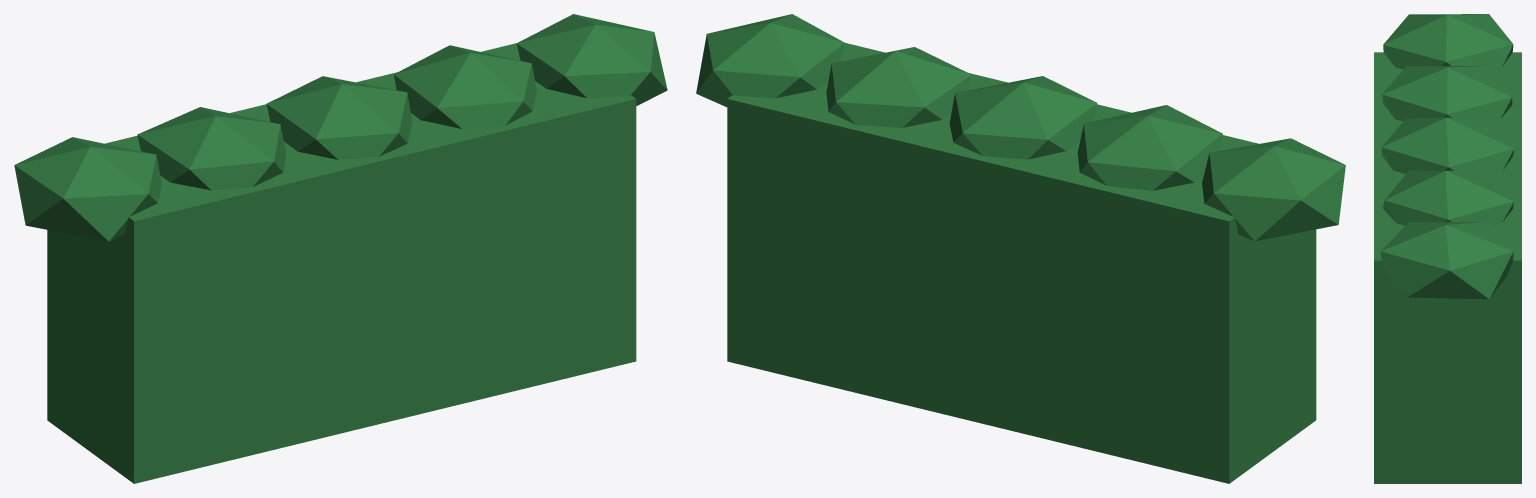
The model's file is garden2_hedge_straight.glb.
3 renders of one model, left to right at view 1: azimuth 30°, elevation 25°; view 2: azimuth 150°, elevation 25°; view 3: azimuth 270°, elevation 25°, orthographic. The views are drawn at different scales.
Parts seen in each view (by area): view 1: hedge_straight; view 2: hedge_straight; view 3: hedge_straight.
Boxes of the visible parts, x1,y1,x2,y2 form: hedge_straight: [14, 14, 667, 483]; hedge_straight: [696, 14, 1345, 483]; hedge_straight: [1374, 14, 1521, 483].
Bounding box in the file's own units: 1.26 × 0.5862 × 0.3.
